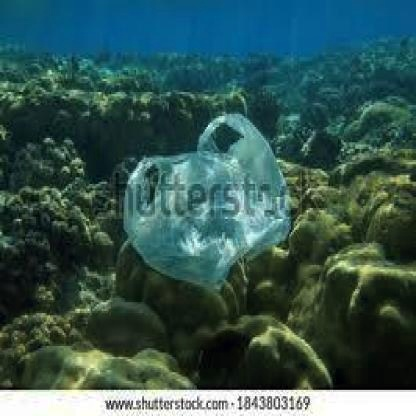pbag: (124, 112, 288, 286)
